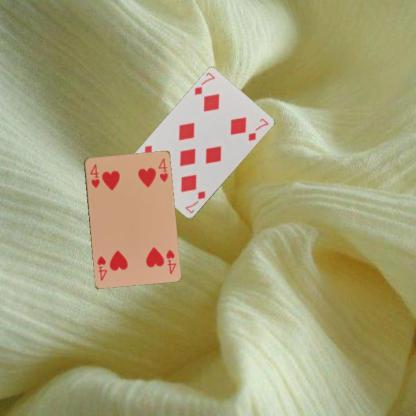4h: (163, 246, 177, 276), (87, 161, 101, 189)
7d: (182, 188, 207, 215), (191, 70, 216, 96)
